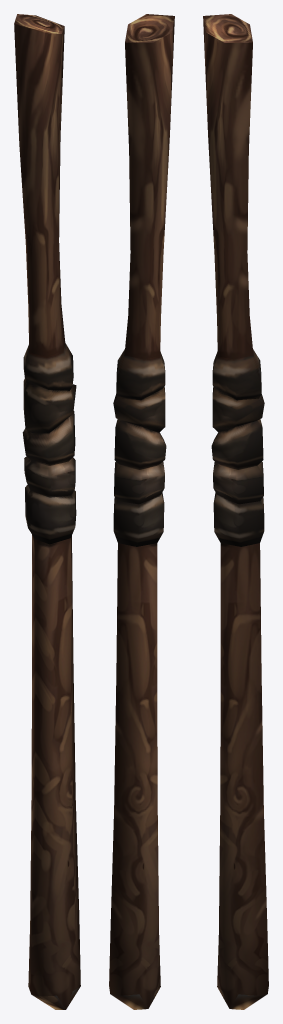
Rendered from W_Staff_0.fbx.
3 views of the same model, side by side, from view 1: azimuth 30°, elevation 25°; view 2: azimuth 210°, elevation 25°; view 3: azimuth 330°, elevation 25° (orthographic).
Visible parts, largest first — view 1: W_Staff_0_LOD0; view 2: W_Staff_0_LOD0; view 3: W_Staff_0_LOD0.
Part boxes in pixels (x1,y1,x2,y2): W_Staff_0_LOD0: (14,14,80,1009); W_Staff_0_LOD0: (109,14,174,1009); W_Staff_0_LOD0: (203,14,268,1009).
Size of what is drawn, in the model's own units: 0.1208 by 1.75 by 0.0848.
